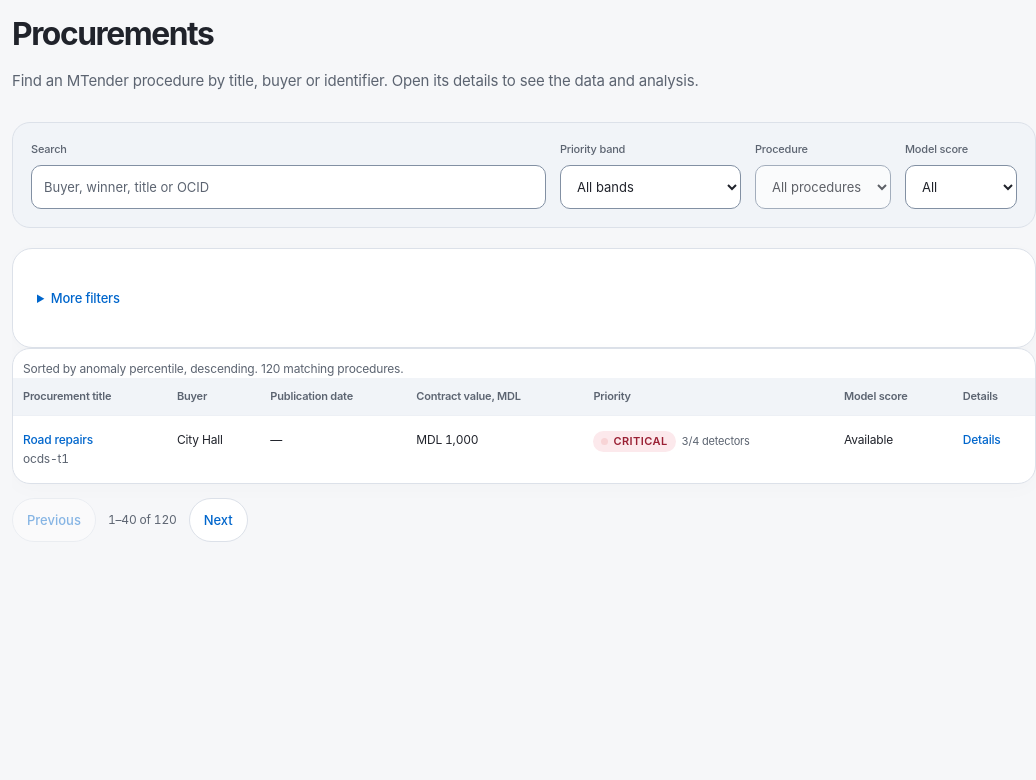
Scenario: Tenders URL state › pushes a page change so Back steps through pages
Expected: the link "Road repairs" is shown, 23,432 -> 93,447
Click the button "Next": (218, 520) 189,498 -> 248,542
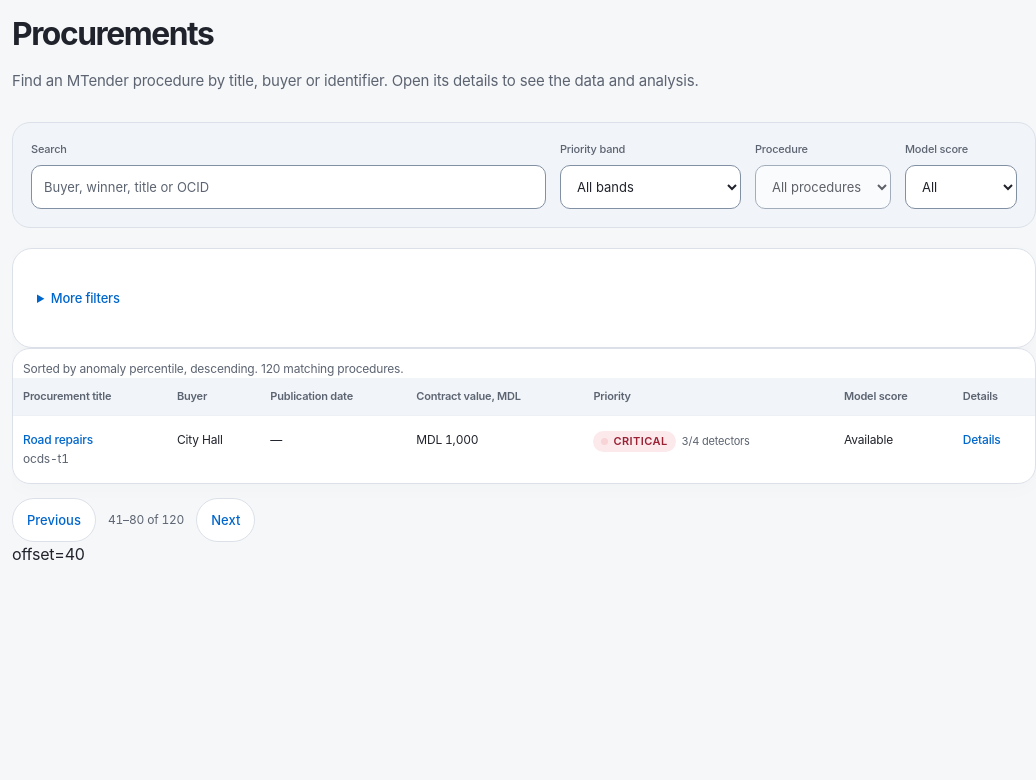
Now the text with test id "search" reads "offset=40", box 12,544 -> 85,564
